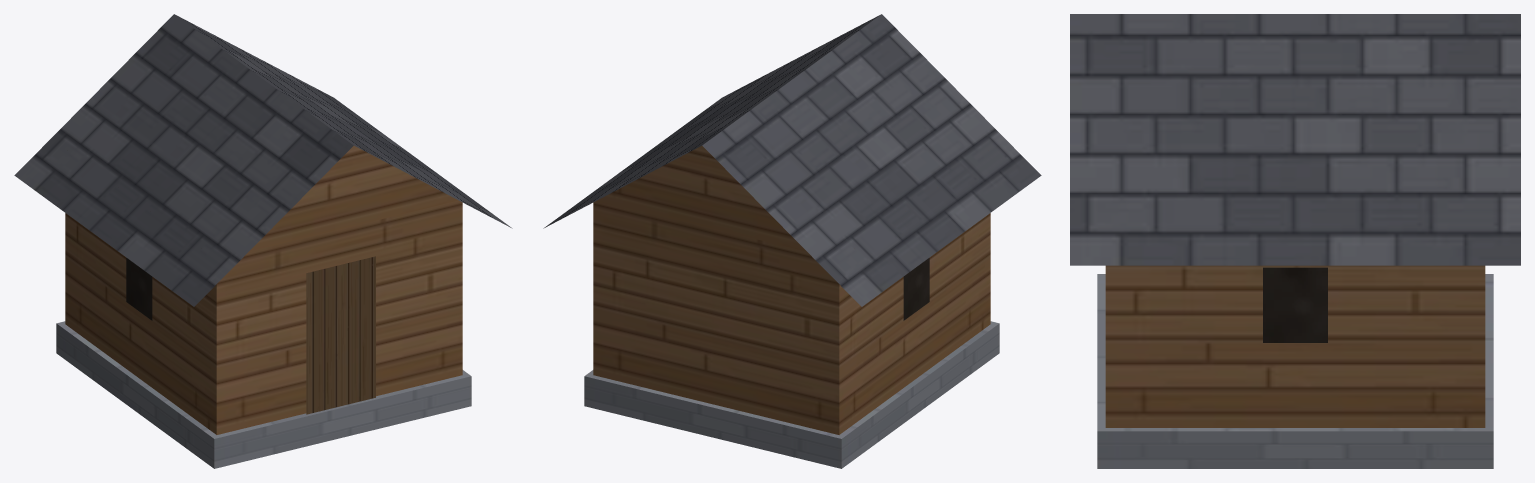
The model's file is ae_snow_wood_small_hut_lod2.glb.
3 views of the same model, side by side, from view 1: azimuth 30°, elevation 25°; view 2: azimuth 150°, elevation 25°; view 3: azimuth 270°, elevation 25° (orthographic). The views are drawn at different scales.
Parts seen in each view (by area): view 1: ae_snow_wood_small_hut_lod2; view 2: ae_snow_wood_small_hut_lod2; view 3: ae_snow_wood_small_hut_lod2.
Boxes of the visible parts, box(x1,y1,x2,y2) form: ae_snow_wood_small_hut_lod2: box(14, 14, 512, 468); ae_snow_wood_small_hut_lod2: box(543, 14, 1041, 468); ae_snow_wood_small_hut_lod2: box(1070, 14, 1520, 468).
Size of the model in its own units: 3.9 by 3.5 by 3.8.
1 material, 1 textured.
